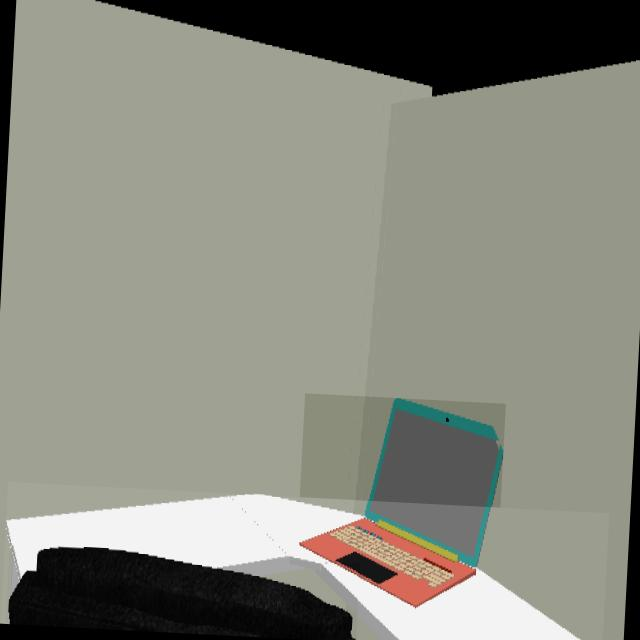chair: (8, 549, 357, 640)
laptop: (297, 399, 503, 612)
table: (7, 495, 580, 640)
